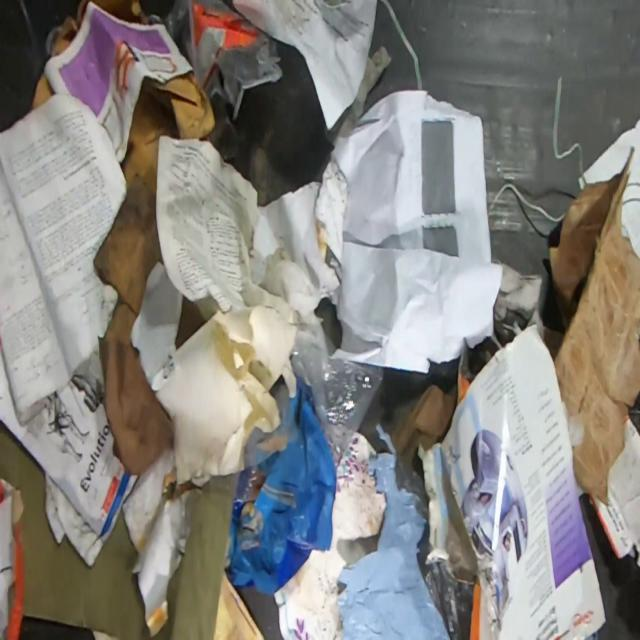cardboard: (1, 422, 242, 639), (550, 146, 640, 508), (94, 170, 174, 482), (120, 76, 214, 218), (49, 1, 150, 59), (31, 70, 56, 110)
rigid_plastic: (149, 0, 285, 162), (21, 0, 62, 84)
soft_plastic: (337, 420, 474, 640), (224, 373, 335, 595), (291, 333, 385, 465)
